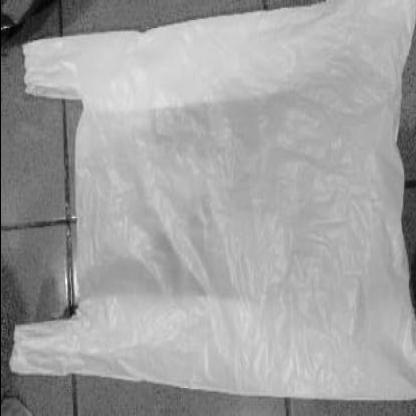objects: (6, 6, 416, 394)
